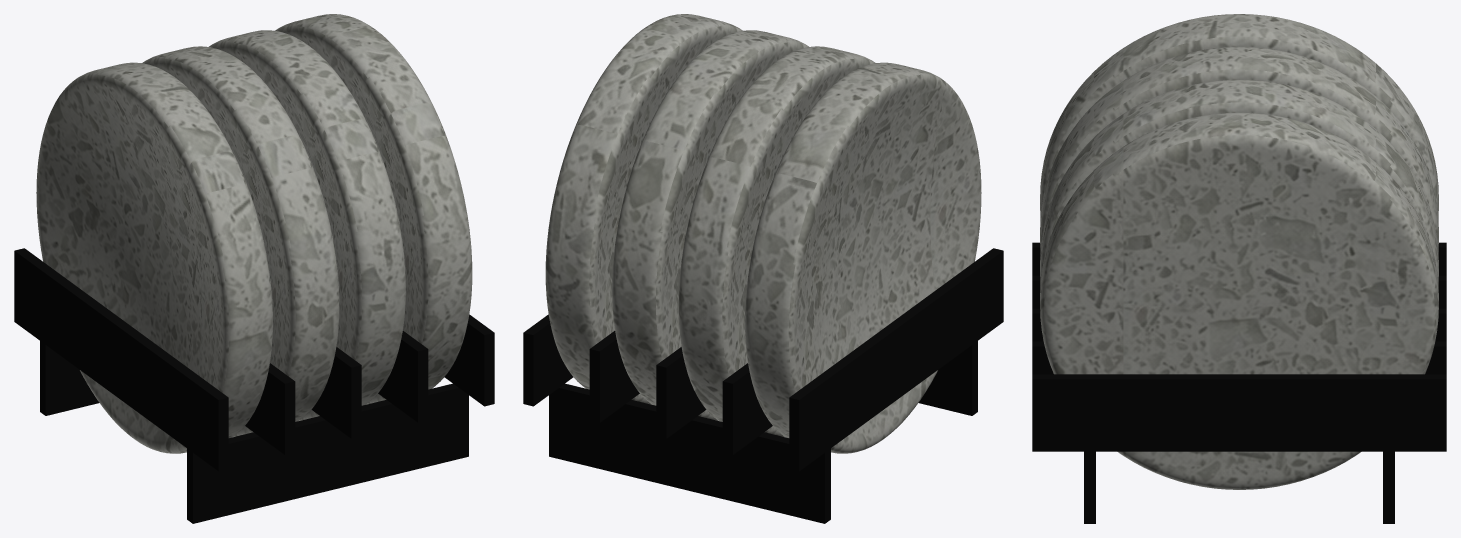
Rendered from posavasos-x4.glb.
The picture shows the model from 3 angles, left to right: view 1: azimuth 30°, elevation 25°; view 2: azimuth 150°, elevation 25°; view 3: azimuth 270°, elevation 25°; orthographic projection.
Parts seen in each view (by area): view 1: Terrazo - posavasosx4, Hierro - posavasosx4; view 2: Terrazo - posavasosx4, Hierro - posavasosx4; view 3: Terrazo - posavasosx4, Hierro - posavasosx4.
Part boxes in pixels (x1,y1,x2,y2): Terrazo - posavasosx4: [36, 14, 472, 453]; Hierro - posavasosx4: [14, 248, 494, 523]; Terrazo - posavasosx4: [545, 14, 981, 453]; Hierro - posavasosx4: [523, 248, 1003, 523]; Terrazo - posavasosx4: [1040, 14, 1438, 489]; Hierro - posavasosx4: [1032, 242, 1446, 523].
Size of the model in its own units: 0.0811 by 0.1063 by 0.1039.
2 materials, 1 textured.
